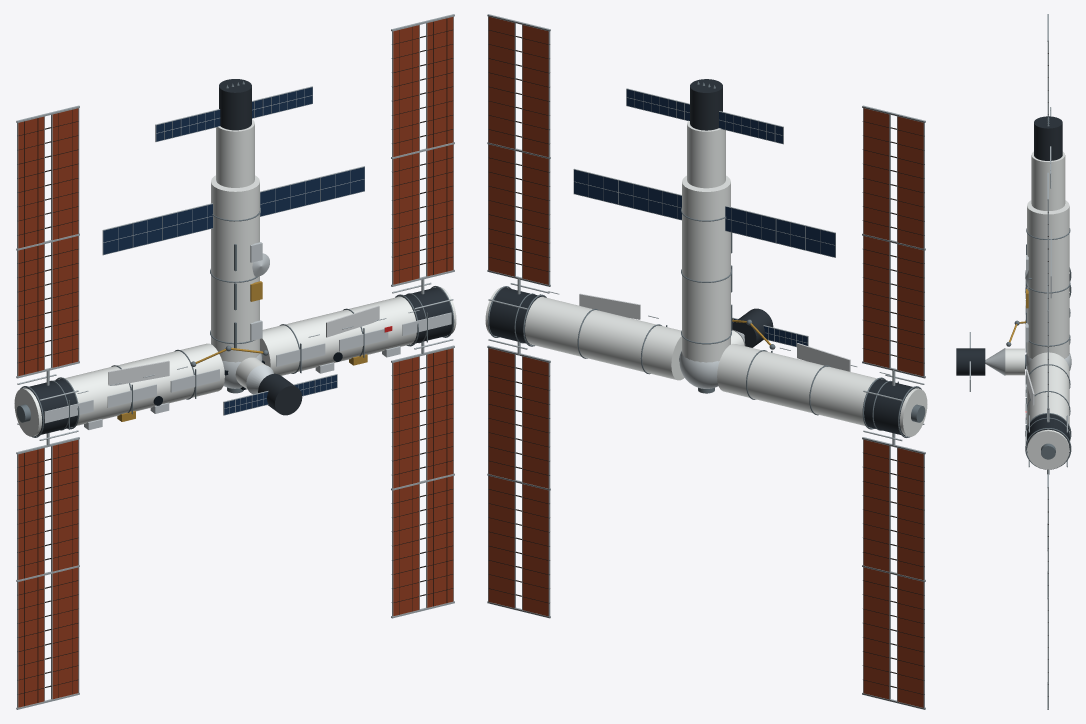
The model's file is tiangong.glb.
3 views of the same model, side by side, from view 1: azimuth 30°, elevation 25°; view 2: azimuth 150°, elevation 25°; view 3: azimuth 270°, elevation 25° (orthographic). The views are drawn at different scales.
Visible parts, largest first — view 1: Wentian-solar-upper-cells--1.6425, Tianhe-core, Wentian-solar-upper-structural-crossbar-0, Wentian-solar-upper-cell-column--1.6425--0.25, Tianhe-solar-port-cells, Tianhe-multi-docking-node, Tianhe-resource-section, Tianhe-core-MLI-band--0.34, Wentian-radiator, Tianhe-equipment-bay-7.1; view 2: Wentian-solar-upper-cells--1.6425, Tianhe-core, Wentian-solar-upper-structural-crossbar-0, Tianhe-solar-port-cells, Tianhe-resource-section, Wentian-solar-upper-cell-column--1.6425--0.25, Tianhe-core-MLI-band--0.34, Wentian-radiator, Tianhe-multi-docking-node; view 3: Tianhe-core, Tianhe-resource-section, Wentian-solar-upper-structural-crossbar-0, Tianhe-core-MLI-band--0.34, Tianhe-multi-docking-node.
Boxes of the visible parts, box(x1,y1,x2,y2) form: Wentian-solar-upper-cells--1.6425: box(18, 17, 453, 707); Tianhe-core: box(14, 119, 456, 436); Wentian-solar-upper-structural-crossbar-0: box(16, 14, 454, 709); Wentian-solar-upper-cell-column--1.6425--0.25: box(17, 18, 453, 706); Tianhe-solar-port-cells: box(103, 87, 364, 414); Tianhe-multi-docking-node: box(44, 242, 451, 429); Tianhe-resource-section: box(23, 79, 452, 436); Tianhe-core-MLI-band--0.34: box(16, 81, 454, 437); Wentian-radiator: box(108, 305, 379, 385); Tianhe-equipment-bay-7.1: box(117, 281, 367, 421); Wentian-solar-upper-cells--1.6425: box(488, 17, 923, 707); Tianhe-core: box(485, 120, 927, 436); Wentian-solar-upper-structural-crossbar-0: box(487, 14, 925, 709); Tianhe-solar-port-cells: box(574, 89, 835, 346); Tianhe-resource-section: box(489, 79, 918, 436); Wentian-solar-upper-cell-column--1.6425--0.25: box(488, 15, 924, 708); Tianhe-core-MLI-band--0.34: box(487, 81, 925, 437); Wentian-radiator: box(579, 293, 850, 371); Tianhe-multi-docking-node: box(679, 329, 745, 388); Tianhe-core: box(1005, 151, 1069, 469); Tianhe-resource-section: box(956, 116, 1069, 452); Wentian-solar-upper-structural-crossbar-0: box(969, 14, 1067, 709); Tianhe-core-MLI-band--0.34: box(1006, 116, 1071, 469); Tianhe-multi-docking-node: box(985, 255, 1071, 446).
Bounding box in the file's own units: 42.15 × 54.15 × 11.1.
